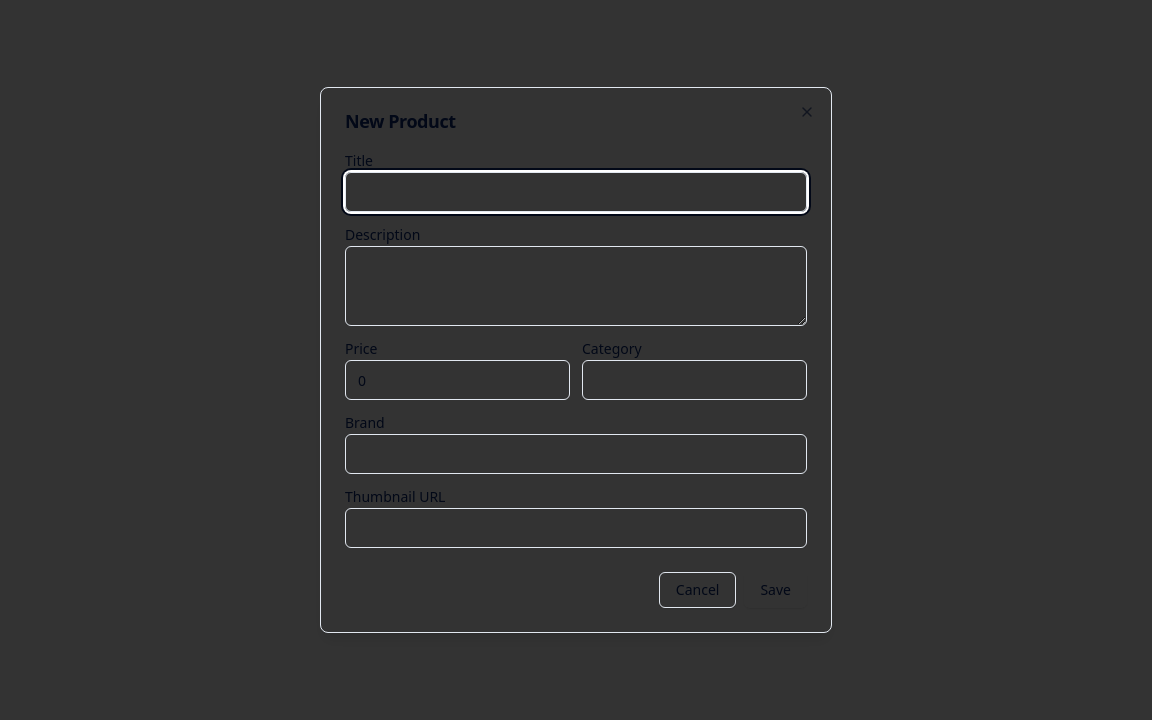
Test: ProductForm › shows validation error when title is empty on submit
Click the button "Save". click: (776, 590)
box: [744,572,807,608]
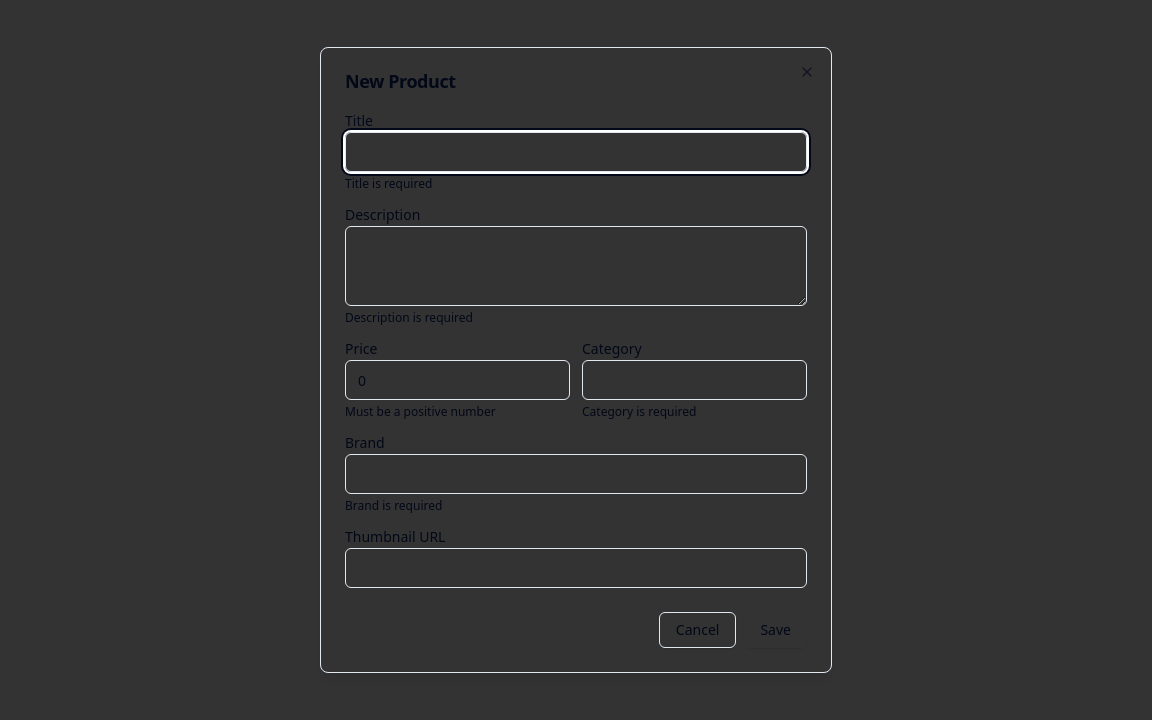
Result: the text "Title is required" is shown at [345,175,432,192]
